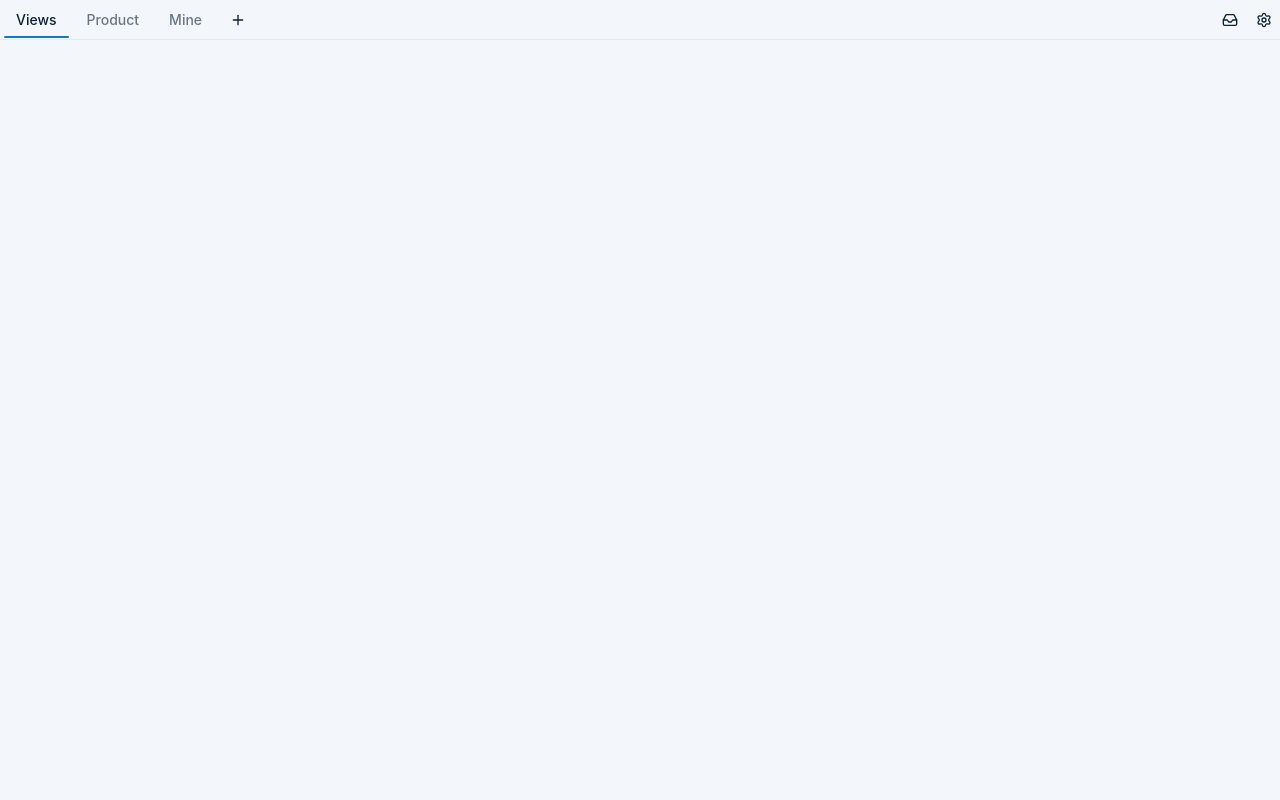
Test: ProjectTabBar › New dashboard… › Back returns to the picker, and a closed dialog opens at the picker again
Step 1. Click the button named "Add tab" → (238, 20), box top-left (222, 4), bottom-right (254, 36)
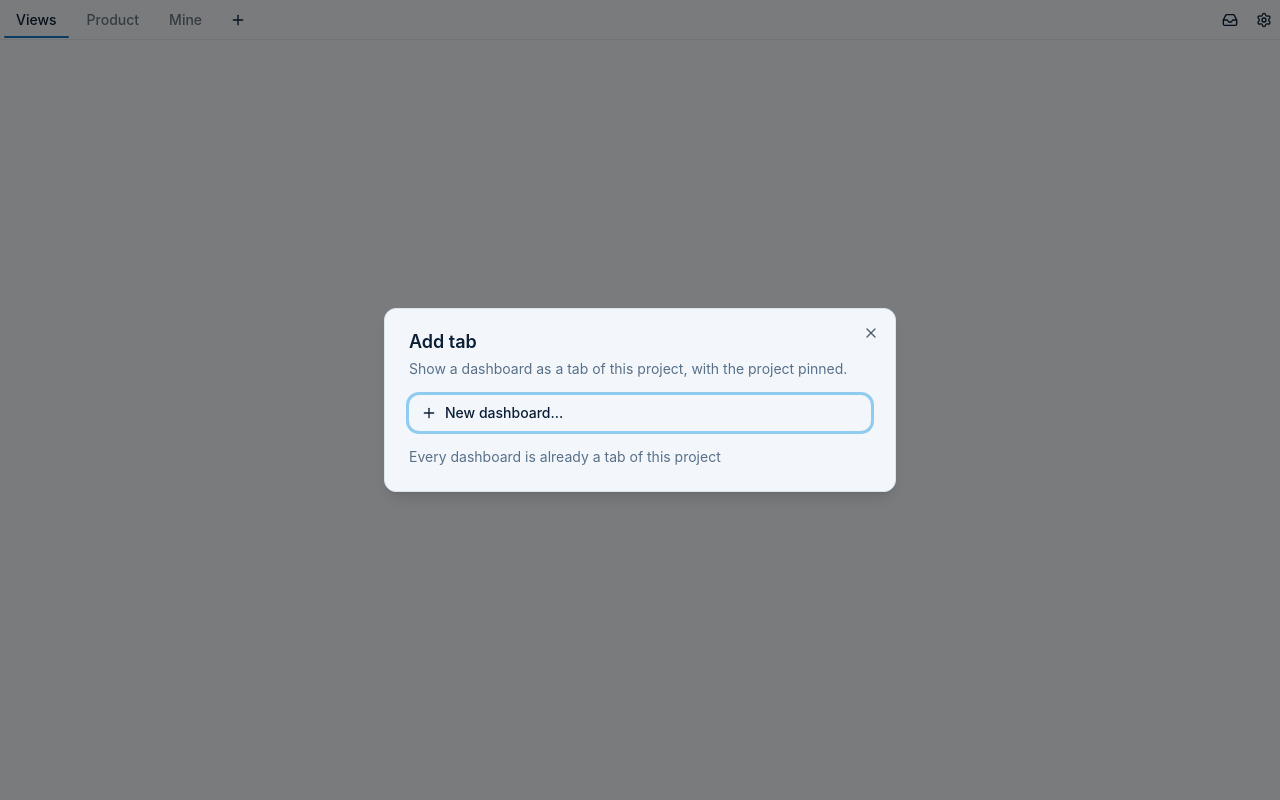
Step 2. Click the button "New dashboard…" → (504, 412), box top-left (409, 395), bottom-right (871, 431)
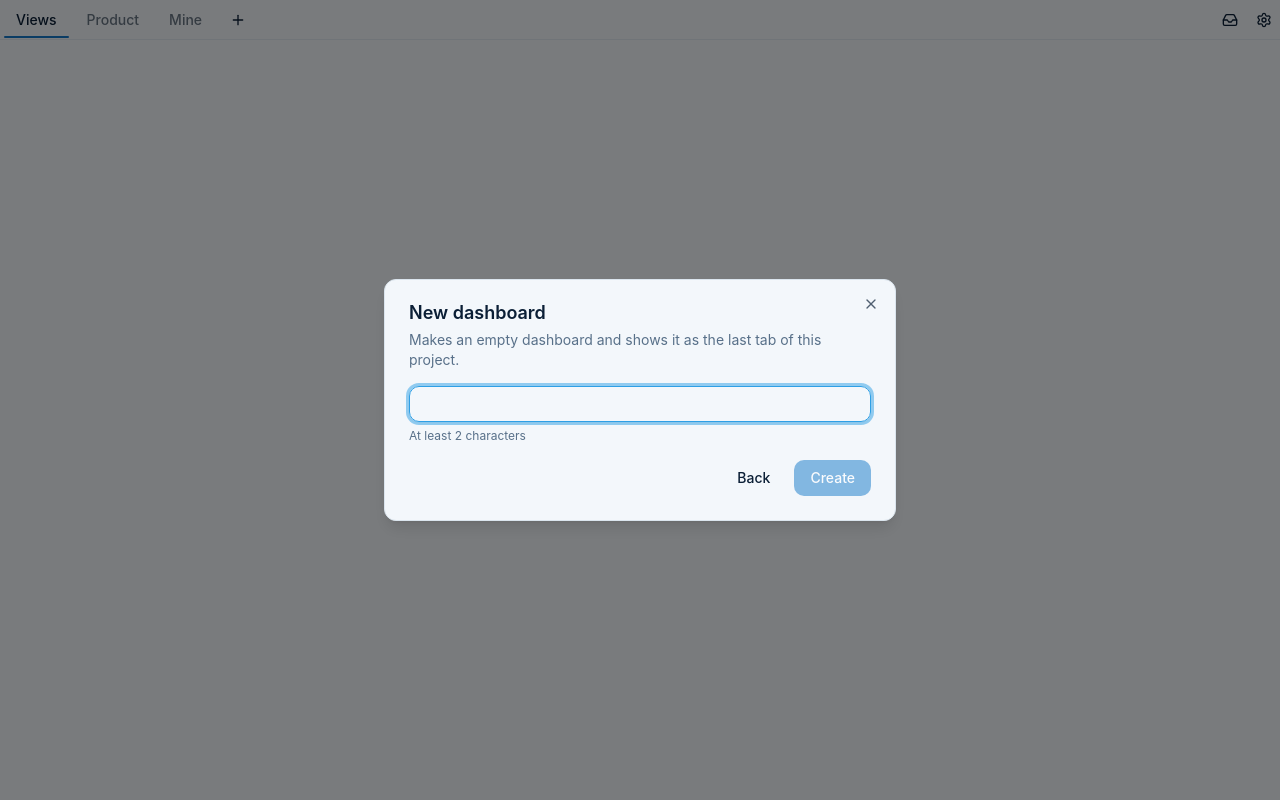
Step 3. Click the button "Back" → (754, 478), box top-left (721, 460), bottom-right (786, 496)
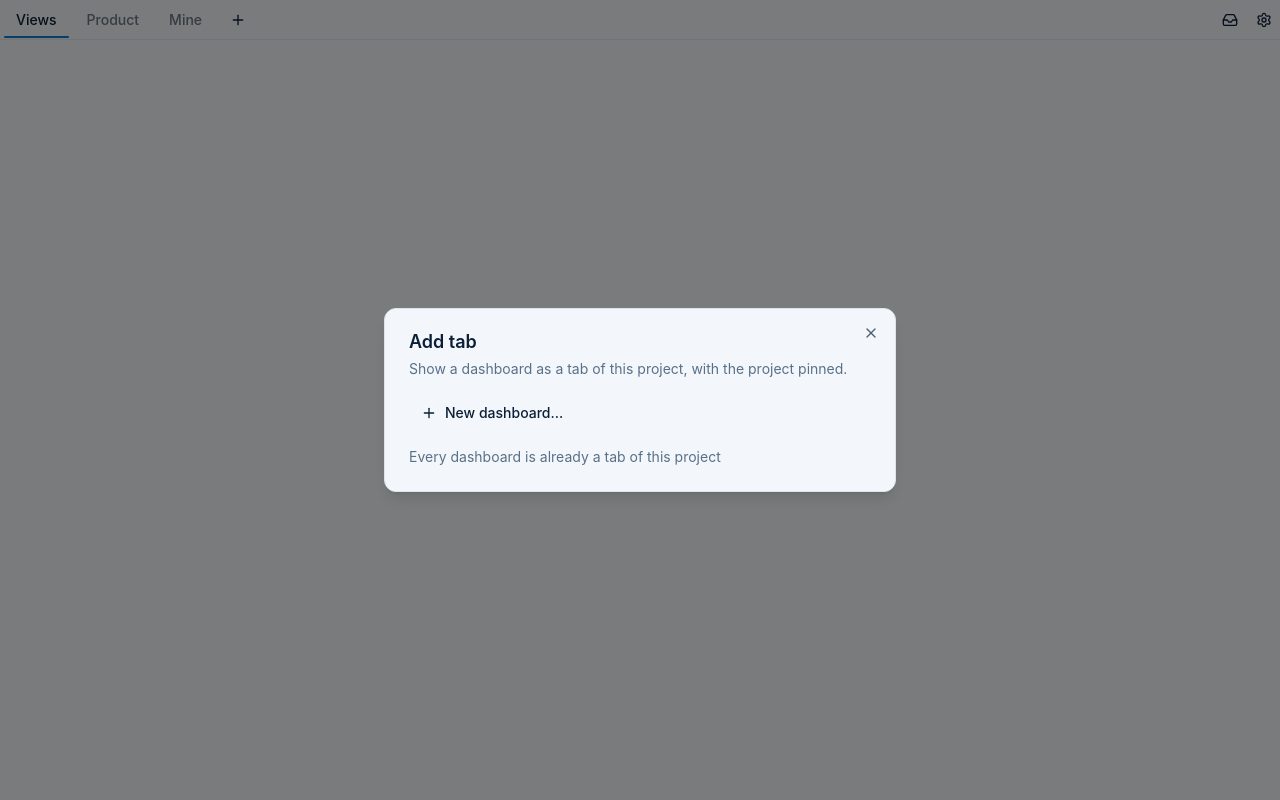
Expected: the button "New dashboard…" is shown
Step 4. Click the button "New dashboard…" → (504, 412), box top-left (409, 395), bottom-right (871, 431)
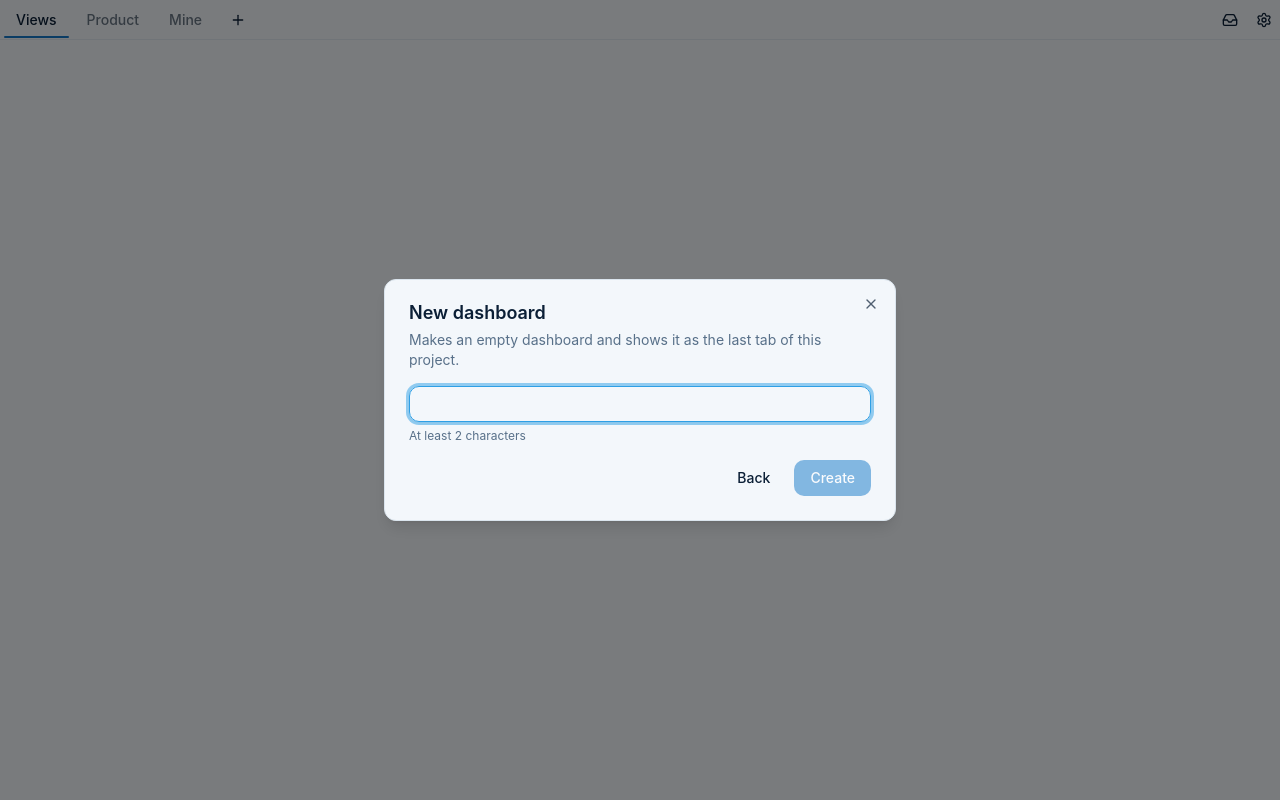
Step 5. Press Escape
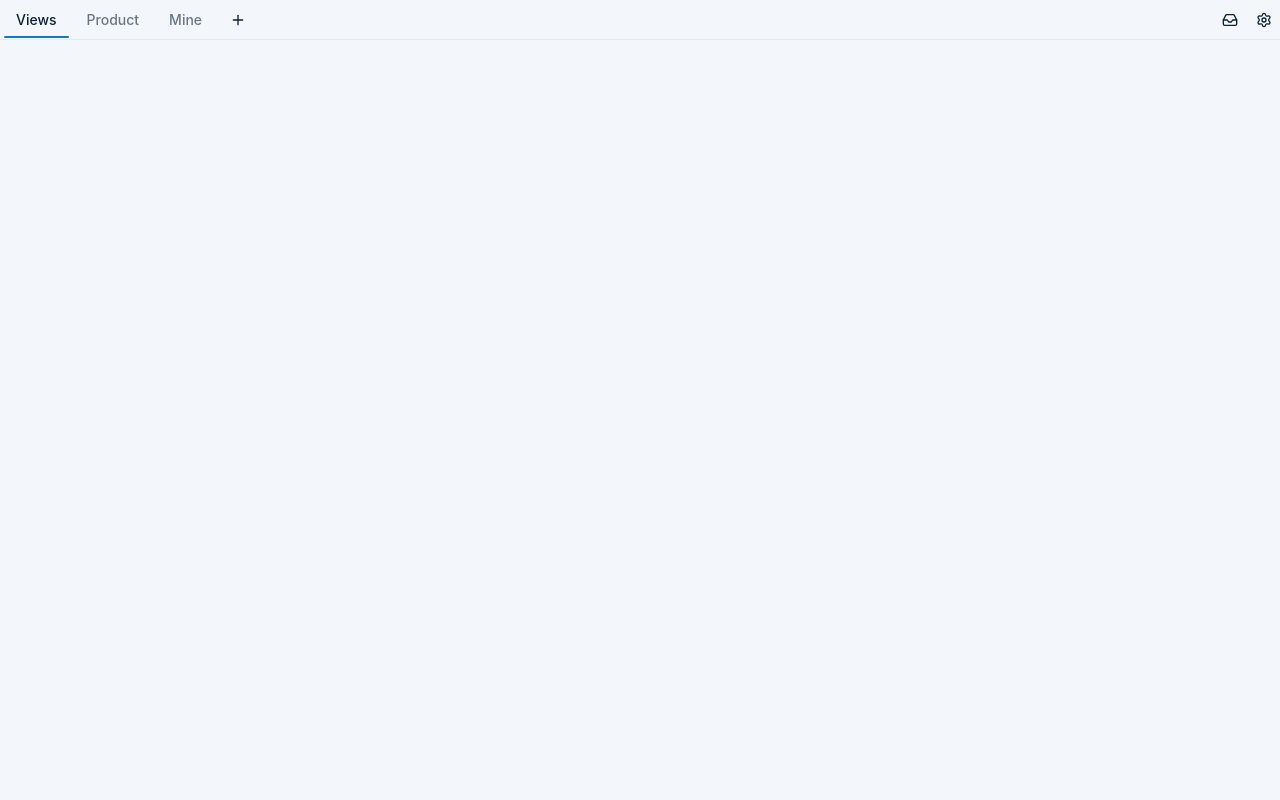
Expected: the dialog is gone
Step 6. Click the button named "Add tab" → (238, 20), box top-left (222, 4), bottom-right (254, 36)
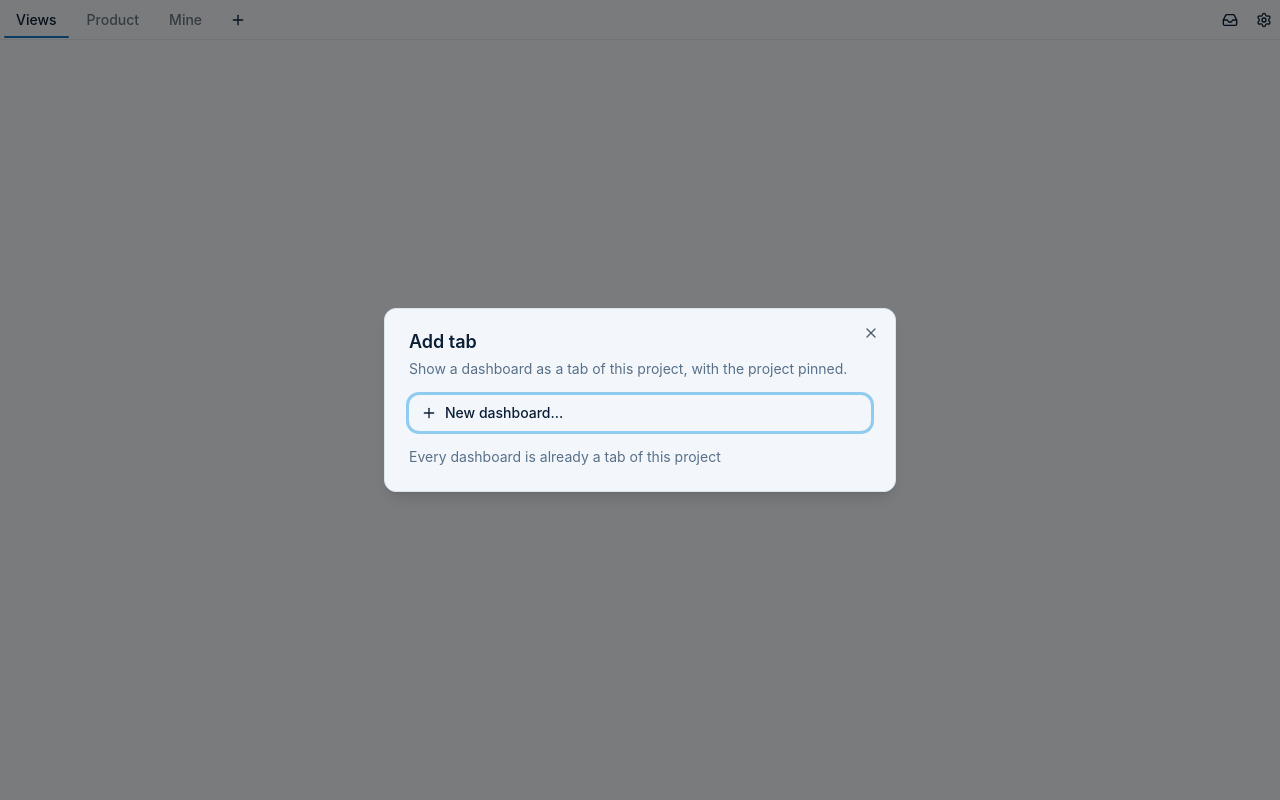
Expected: the button "New dashboard…" is shown, top-left (409, 395), bottom-right (871, 431)
